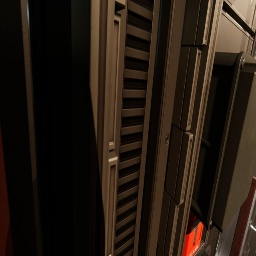FireAlarm ,: (183, 210, 203, 256)
